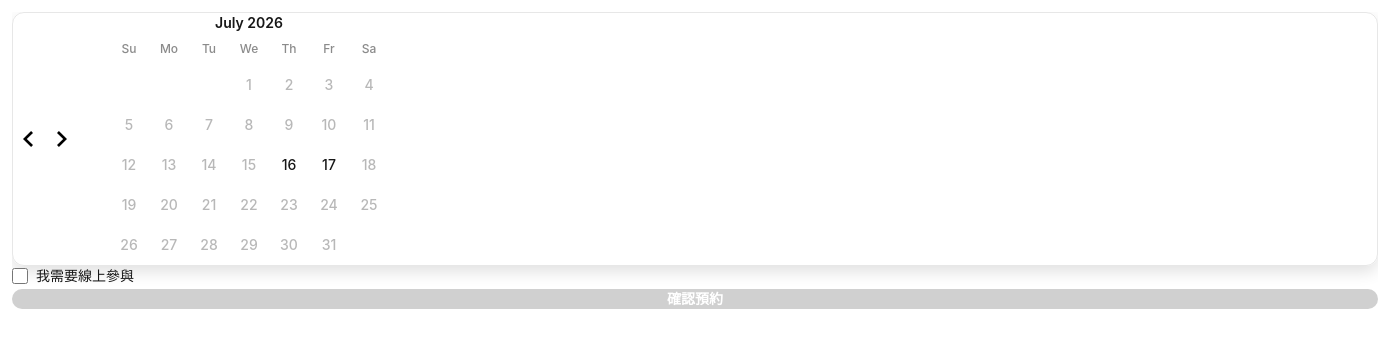
Test case: BookingForm › disables the confirm button again after switching to a different date
Click the button "16" at (289, 165), box [269, 145, 309, 185]
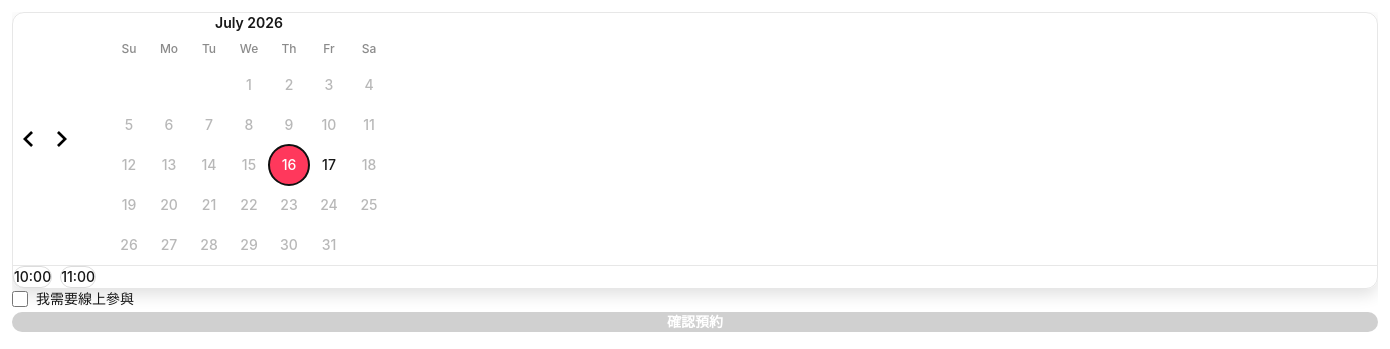
Click the button "10:00" at (33, 277), box [13, 266, 52, 288]
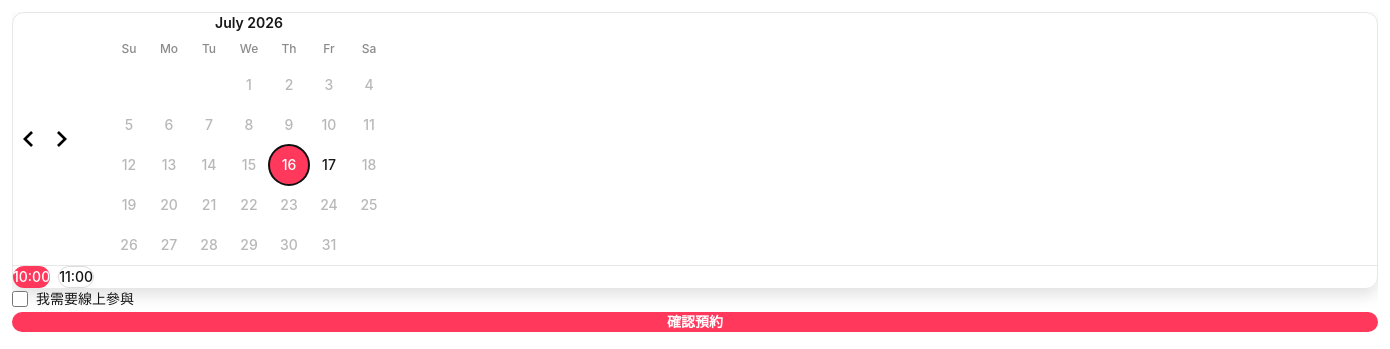
expect the button "確認預約" is enabled: met, box [12, 312, 1378, 332]
Click the button "17" at (329, 165), box [309, 145, 349, 185]
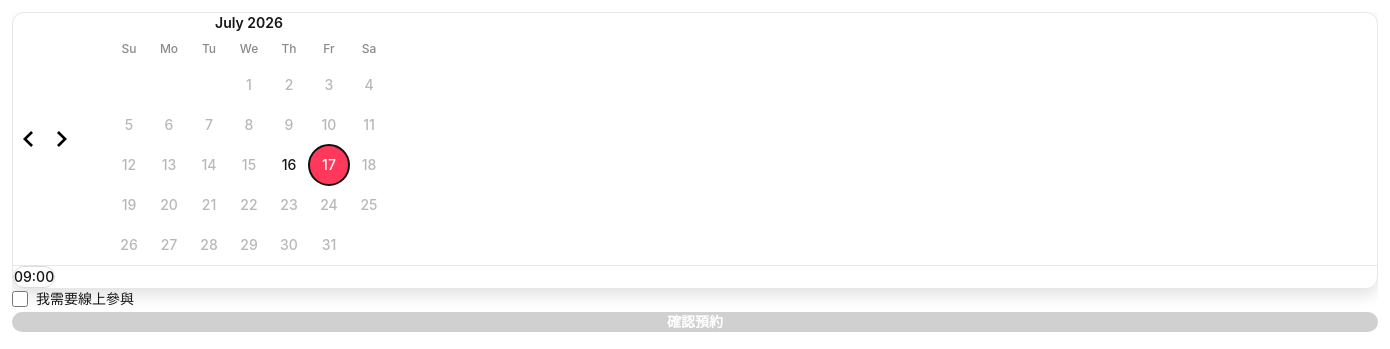
expect the button "確認預約" is disabled: met, box [12, 312, 1378, 332]
